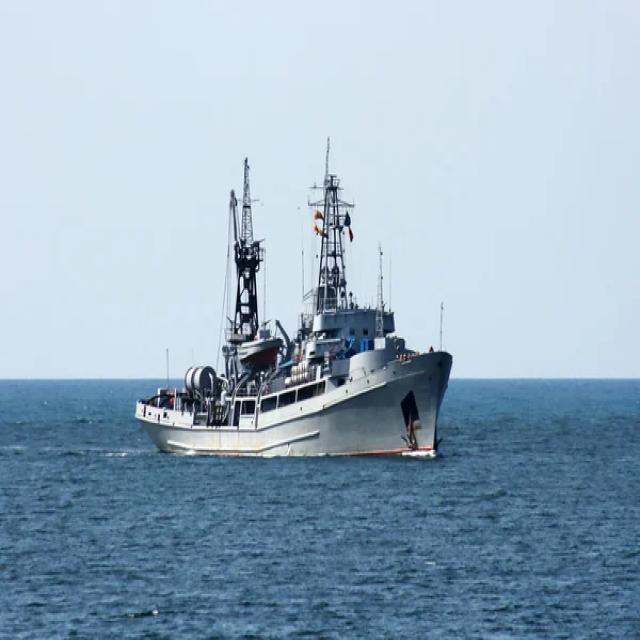navalvessels: (137, 160, 466, 473)
